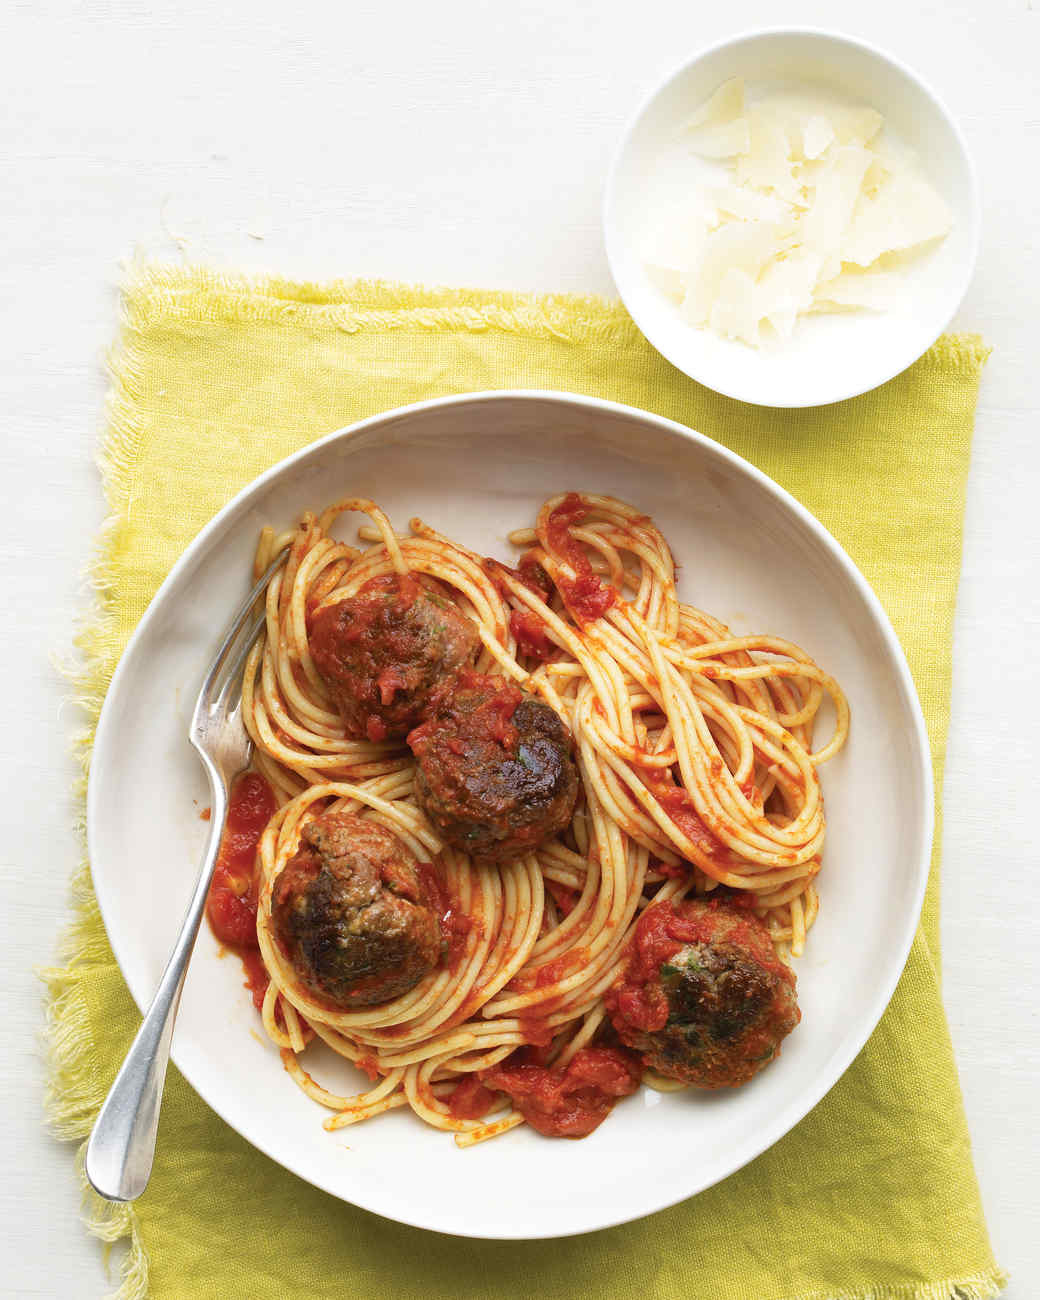meatballs: (278, 821, 430, 996), (646, 918, 796, 1087), (337, 582, 478, 724), (428, 705, 570, 837)
plain spaghetti: (565, 537, 812, 866)
